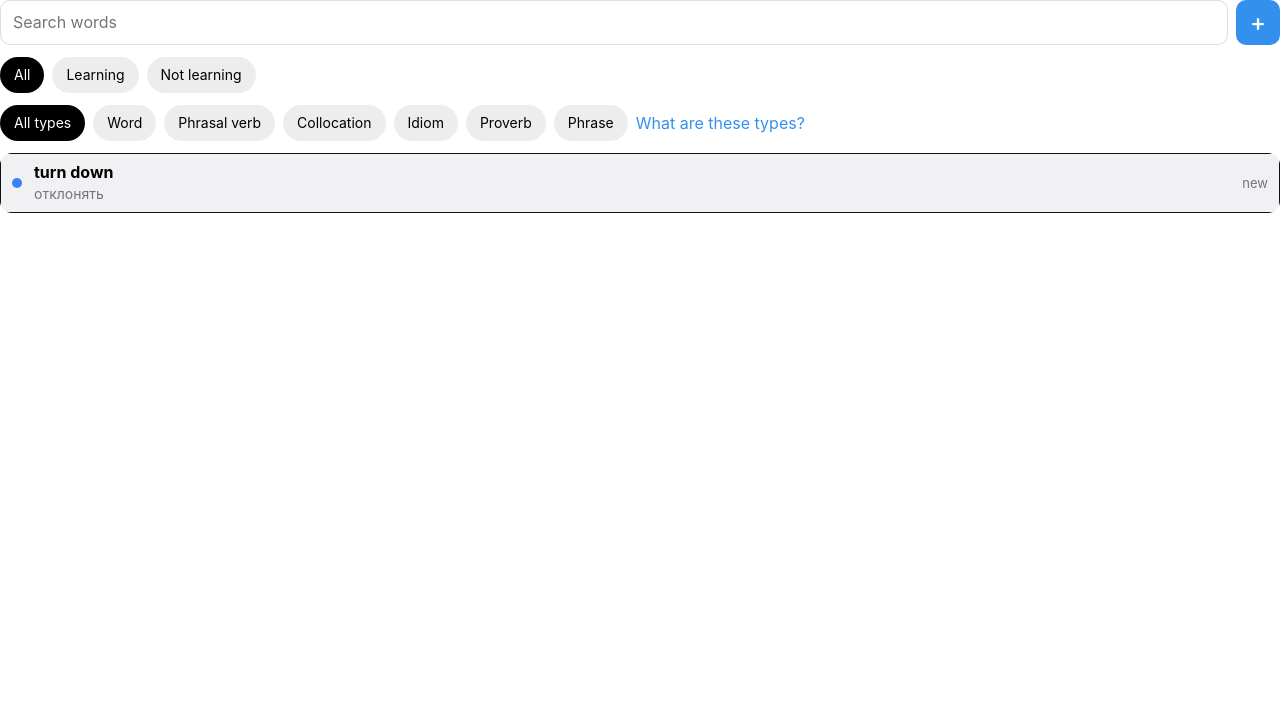
CardsPage › card sheet › opens the full card on a row tap, with focus inside, and closes on Close
This screenshot has width=1280, height=720.
Click the button "turn down отклонять new".
click(74, 172)  # box [0,153,1279,213]
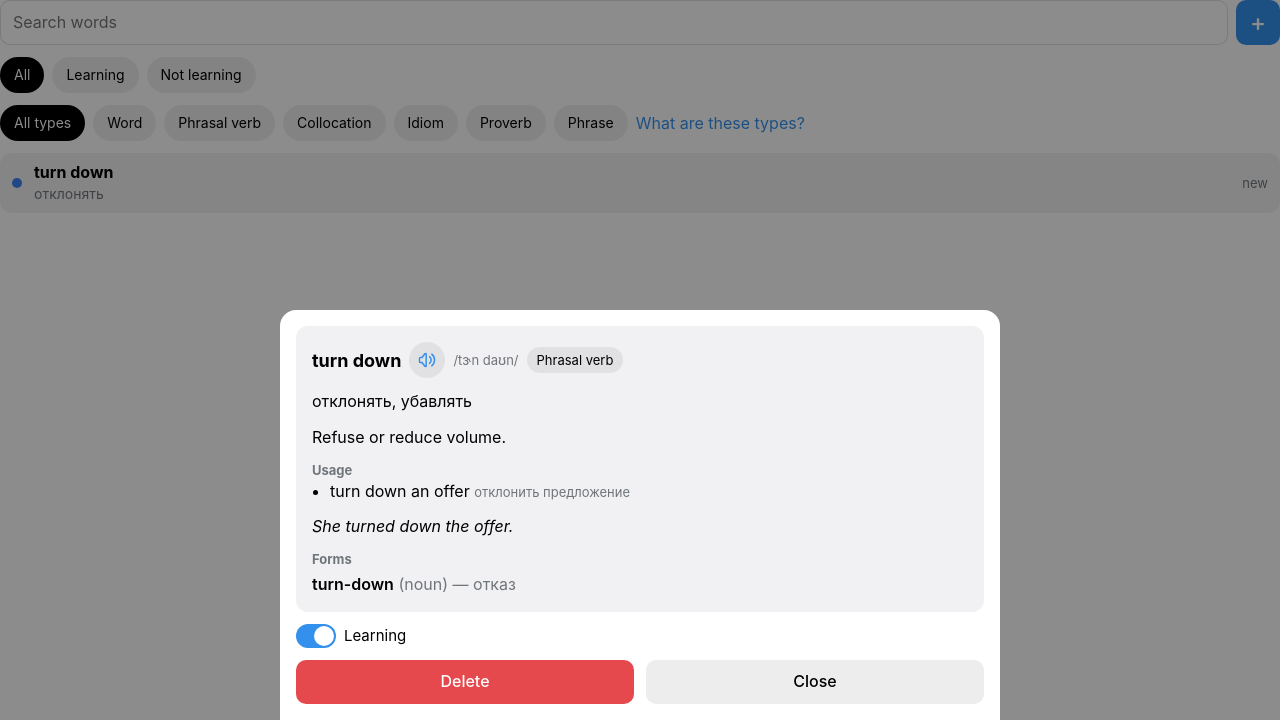
Result: the heading "turn down" is shown at [312,350,401,371]
Result: the text "/tɝn daʊn/" is shown at [453,351,519,370]
Result: the text "отклонять, убавлять" is shown at [312,391,472,411]
Click the button "Close".
click(815, 682)  # box [646,660,984,704]
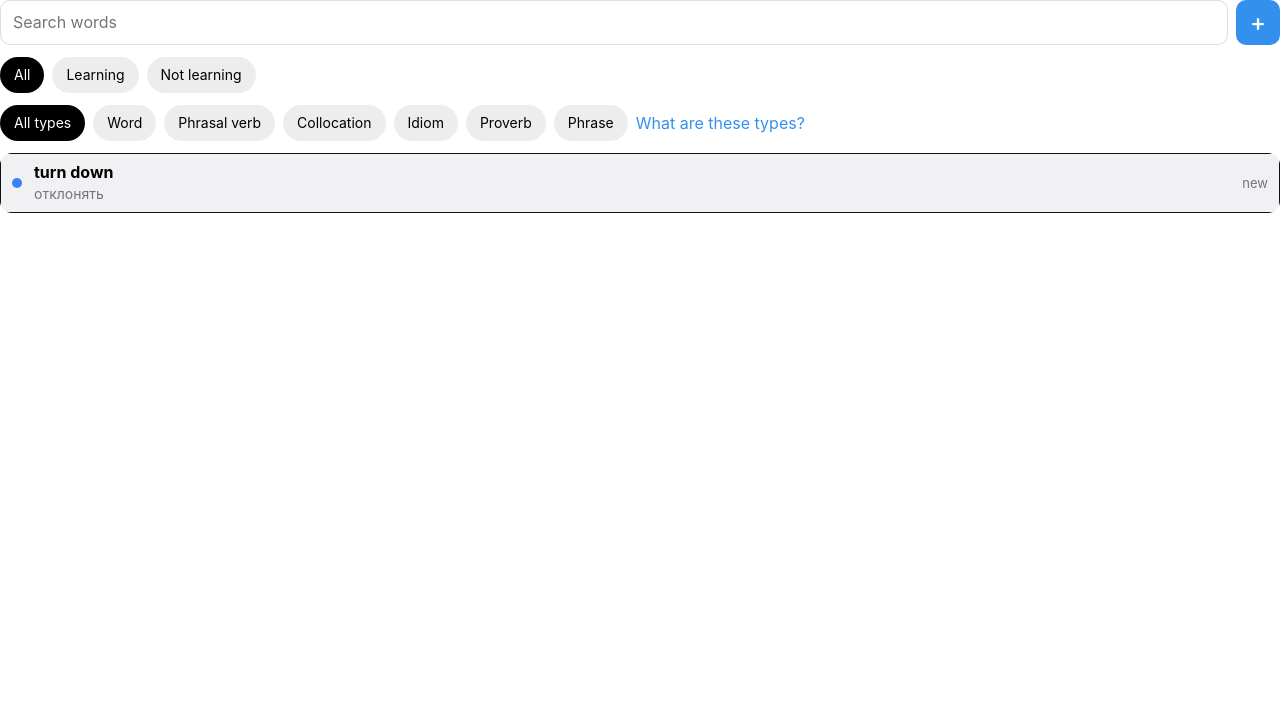
Result: the dialog is gone
